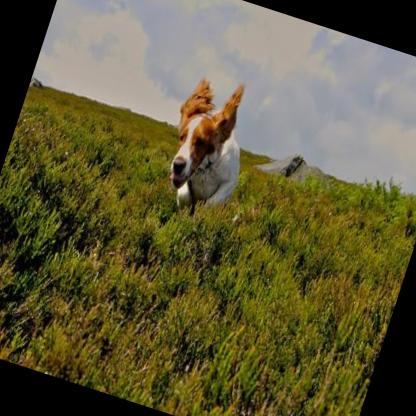Welsh_springer_spaniel: (145, 64, 266, 221)
